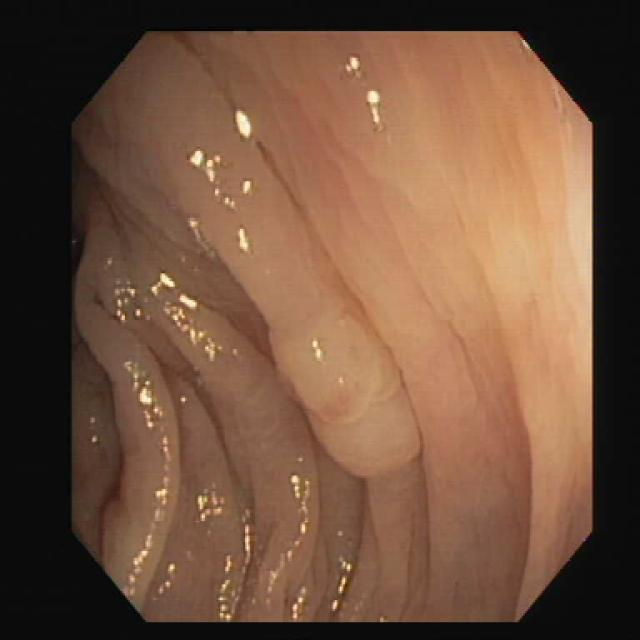tumor: (268, 298, 430, 478)
